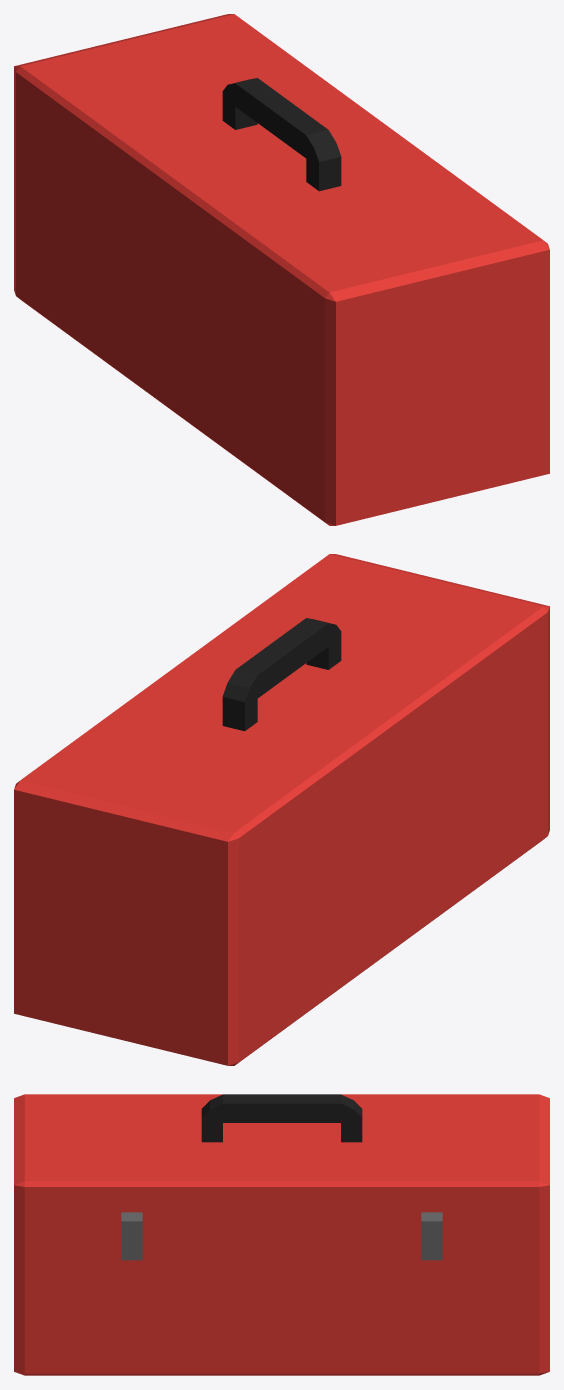
The model's file is toolbox.fbx.
3 views of the same model, one above another, from view 1: azimuth 30°, elevation 25°; view 2: azimuth 150°, elevation 25°; view 3: azimuth 270°, elevation 25° (orthographic). The views are drawn at different scales.
Visible parts, largest first — view 1: Cube; view 2: Cube; view 3: Cube.
Boxes of the visible parts, x1=… form: Cube: x1=14, y1=14, x2=549, y2=525; Cube: x1=14, y1=554, x2=549, y2=1065; Cube: x1=14, y1=1094, x2=549, y2=1375.
Size of the model in its own units: 220 by 240 by 500.
